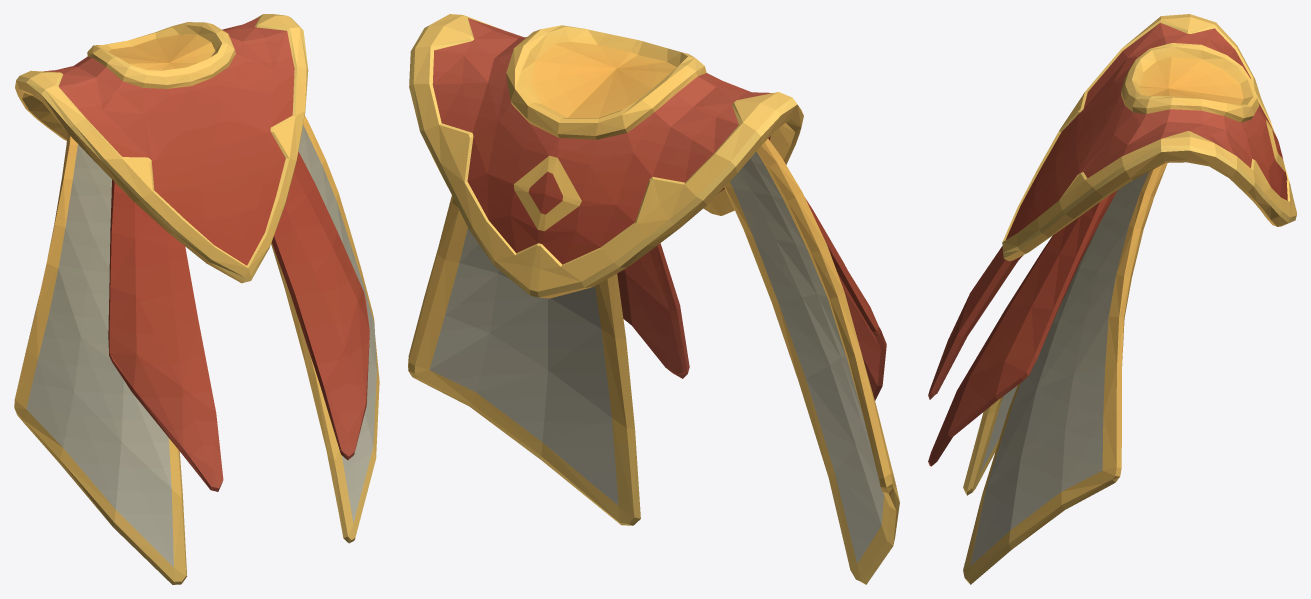
Rendered from CharSkyKid_Wing_AP28MantaWhisperer.glb.
3 views of the same model, side by side, from view 1: azimuth 30°, elevation 25°; view 2: azimuth 150°, elevation 25°; view 3: azimuth 270°, elevation 25° (orthographic). The views are drawn at different scales.
Visible parts, largest first — view 1: CharSkyKid_Wing_AP28MantaWhisperer; view 2: CharSkyKid_Wing_AP28MantaWhisperer; view 3: CharSkyKid_Wing_AP28MantaWhisperer.
Boxes of the visible parts, left/top/right/bottom form: CharSkyKid_Wing_AP28MantaWhisperer: left=14, top=14, right=379, bottom=584; CharSkyKid_Wing_AP28MantaWhisperer: left=408, top=14, right=899, bottom=584; CharSkyKid_Wing_AP28MantaWhisperer: left=928, top=14, right=1296, bottom=584.
Size of the model in its own units: 6.98 by 8.31 by 5.93.
Materials: 1 (1 with a texture image).
